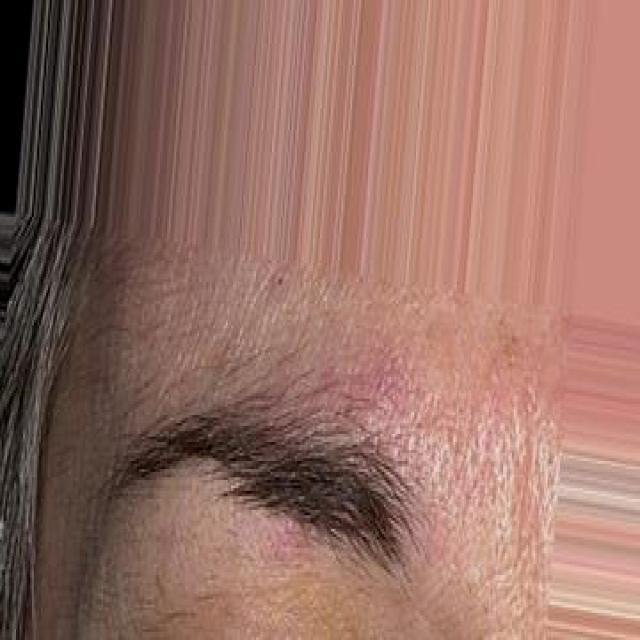Rosacea: (258, 339, 438, 420), (135, 509, 303, 582)
